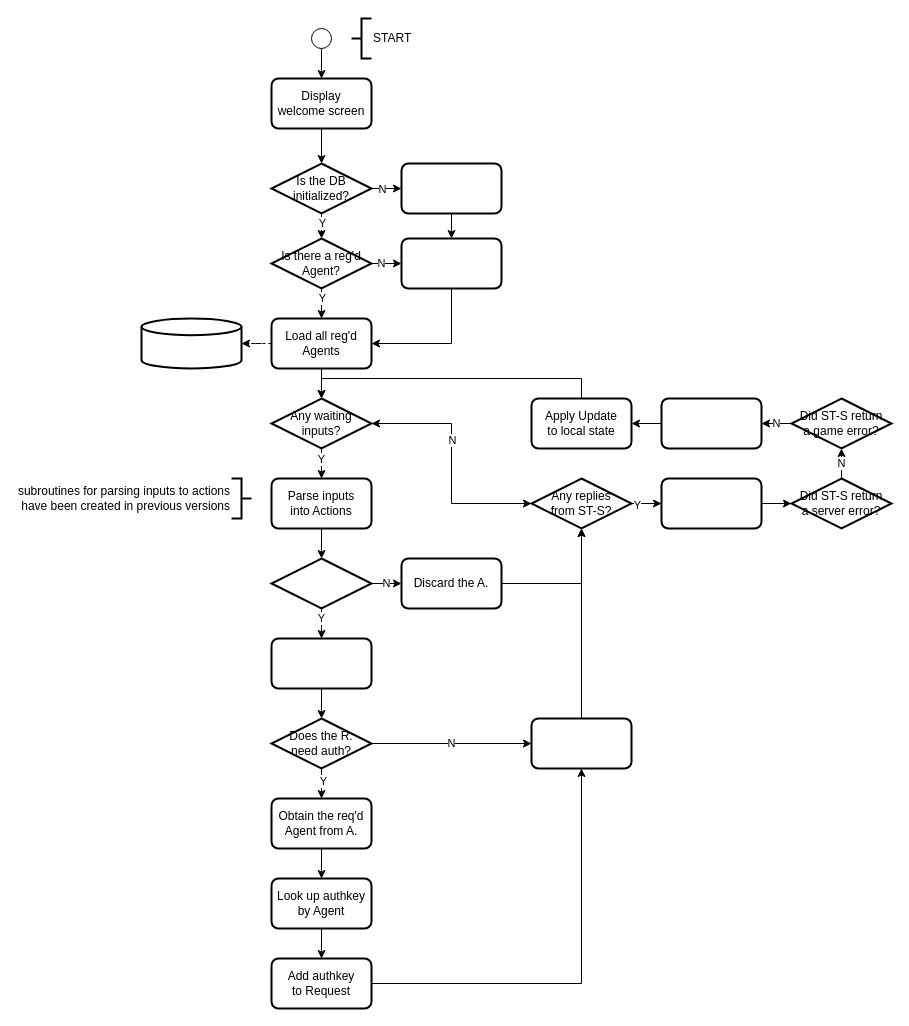
This 909x1026 diagram has some shape labels left out. The shapes that lost their labels are listed below. From the top down, each one's box as (x1, y1, x2, y2) in pixels, then its label:
(400, 162, 502, 214): Perform first-time DB setup
(400, 237, 502, 289): Require new Agent registration
(140, 317, 242, 369): keychain
(660, 397, 762, 449): Parse Reply into Update
(660, 477, 762, 529): Ensure we know which Action is replied to
(270, 557, 372, 609): Is the A. "valid"?
(270, 637, 372, 689): Make Request from Action
(530, 717, 632, 769): Dispatch Request to ST-Server
